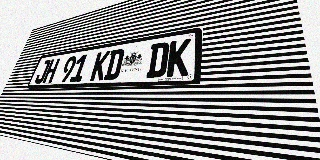1: (69, 54, 89, 82)
9: (59, 55, 78, 82)
D: (146, 41, 170, 78), (103, 48, 125, 80)
H: (42, 58, 60, 83)
J: (33, 60, 51, 84)
K: (166, 38, 191, 77), (89, 50, 111, 81)
